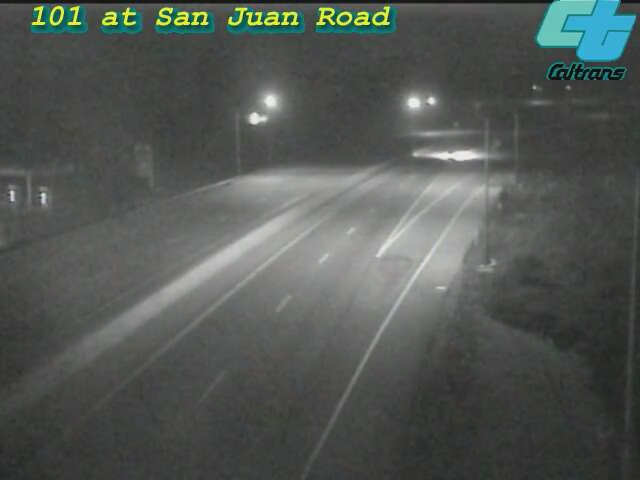vehicle: (411, 115, 491, 195)
